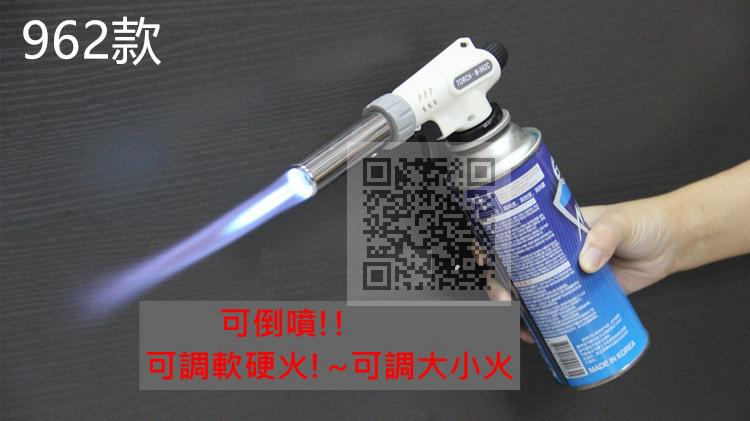gastorch: (287, 35, 651, 392)
